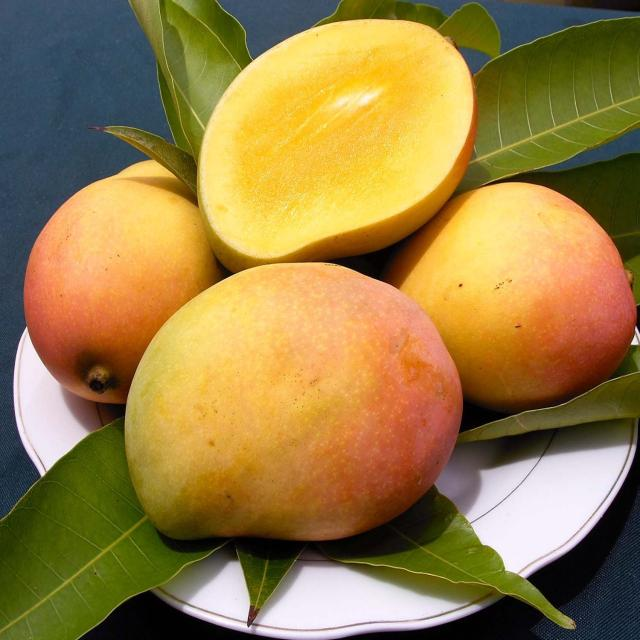mango: (111, 254, 466, 545), (384, 182, 635, 411), (22, 162, 223, 403)
